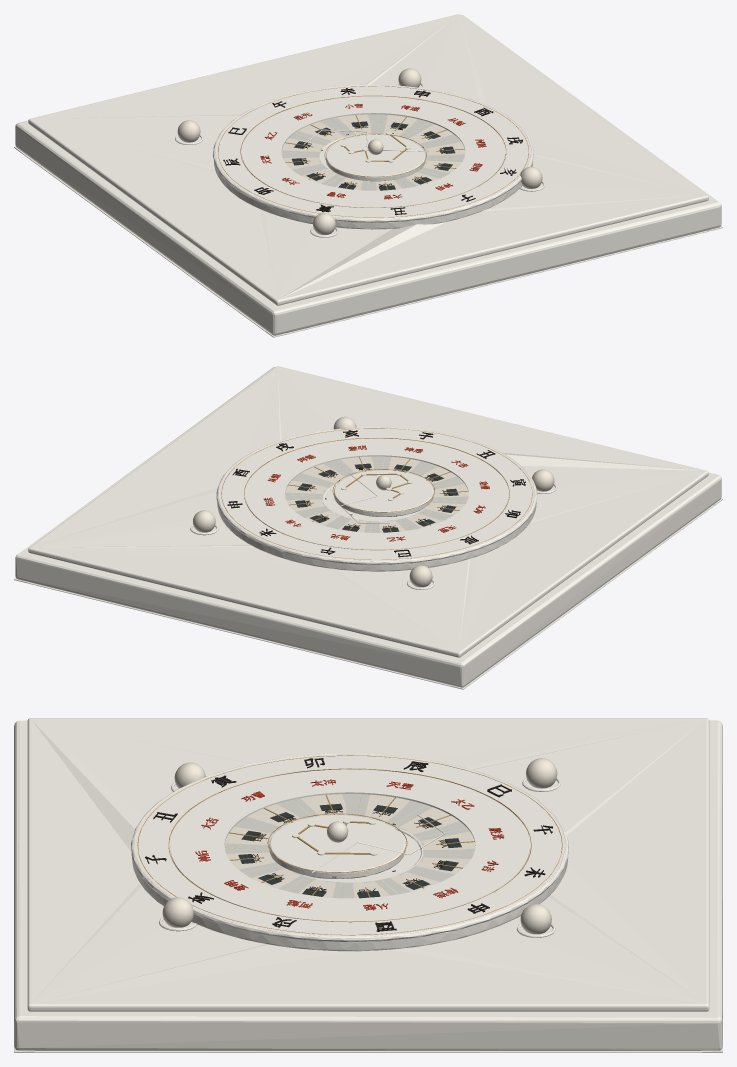
File: daliuren-artifact-mobile.glb
3 views of the same model, one above another, from view 1: azimuth 30°, elevation 25°; view 2: azimuth 150°, elevation 25°; view 3: azimuth 270°, elevation 25° (orthographic). The views are drawn at different scales.
Parts seen in each view (by area): view 1: lod2/plate/earth, lod2/base/body, lod2/detail/heaven/linked-ring-2, lod2/detail/heaven/linked-ring-1, lod2/plate/core, lod2/plate/heaven, lod2/detail/heaven/bronze-rim, lod2/detail/base/shell-return/01, lod2/detail/base/shell-return/03, lod2/detail/ring/groove-01, lod2/detail/ring/groove-00; view 2: lod2/plate/earth, lod2/base/body, lod2/detail/heaven/linked-ring-2, lod2/detail/heaven/linked-ring-1, lod2/plate/core, lod2/plate/heaven, lod2/detail/heaven/bronze-rim, lod2/detail/base/shell-return/00, lod2/detail/base/shell-return/03, lod2/detail/ring/groove-00, lod2/detail/ring/groove-01, lod2/detail/heaven/dial-foundation; view 3: lod2/plate/earth, lod2/base/body, lod2/detail/heaven/linked-ring-2, lod2/detail/heaven/linked-ring-1, lod2/plate/core, lod2/plate/heaven, lod2/detail/heaven/bronze-rim, lod2/detail/base/shell-return/02, lod2/detail/ring/groove-00, lod2/detail/ring/groove-01, lod2/detail/heaven/dial-foundation, lod2/detail/earth/corner-pearl-00 (+11 smaller).
Part boxes in pixels (x1,y1,x2,y2): lod2/plate/earth: [28, 14, 708, 305]; lod2/base/body: [15, 15, 721, 335]; lod2/detail/heaven/linked-ring-2: [241, 96, 505, 207]; lod2/detail/heaven/linked-ring-1: [214, 85, 532, 218]; lod2/plate/core: [326, 134, 425, 181]; lod2/plate/heaven: [214, 135, 532, 229]; lod2/detail/heaven/bronze-rim: [213, 85, 533, 222]; lod2/detail/base/shell-return/01: [287, 230, 708, 334]; lod2/detail/base/shell-return/03: [22, 152, 266, 331]; lod2/detail/ring/groove-01: [240, 95, 506, 207]; lod2/detail/ring/groove-00: [218, 86, 528, 217]; lod2/plate/earth: [28, 366, 708, 657]; lod2/base/body: [15, 367, 721, 687]; lod2/detail/heaven/linked-ring-2: [245, 438, 508, 549]; lod2/detail/heaven/linked-ring-1: [218, 427, 535, 561]; lod2/plate/core: [334, 470, 433, 516]; lod2/plate/heaven: [217, 475, 536, 571]; lod2/detail/heaven/bronze-rim: [216, 427, 537, 564]; lod2/detail/base/shell-return/00: [28, 582, 449, 686]; lod2/detail/base/shell-return/03: [470, 504, 714, 683]; lod2/detail/ring/groove-00: [221, 428, 532, 559]; lod2/detail/ring/groove-01: [244, 438, 509, 550]; lod2/detail/heaven/dial-foundation: [292, 486, 422, 567]; lod2/plate/earth: [27, 718, 709, 1011]; lod2/base/body: [14, 720, 722, 1050]; lod2/detail/heaven/linked-ring-2: [170, 769, 529, 921]; lod2/detail/heaven/linked-ring-1: [133, 754, 566, 936]; lod2/plate/core: [269, 815, 405, 878]; lod2/plate/heaven: [132, 818, 568, 951]; lod2/detail/heaven/bronze-rim: [131, 754, 568, 941]; lod2/detail/base/shell-return/02: [36, 1051, 700, 1052]; lod2/detail/ring/groove-00: [137, 755, 562, 935]; lod2/detail/ring/groove-01: [168, 768, 531, 922]; lod2/detail/heaven/dial-foundation: [295, 830, 433, 950]; lod2/detail/earth/corner-pearl-00: [526, 758, 557, 788].
Bounding box in the file's own units: 0.52 × 0.0632 × 0.52.
